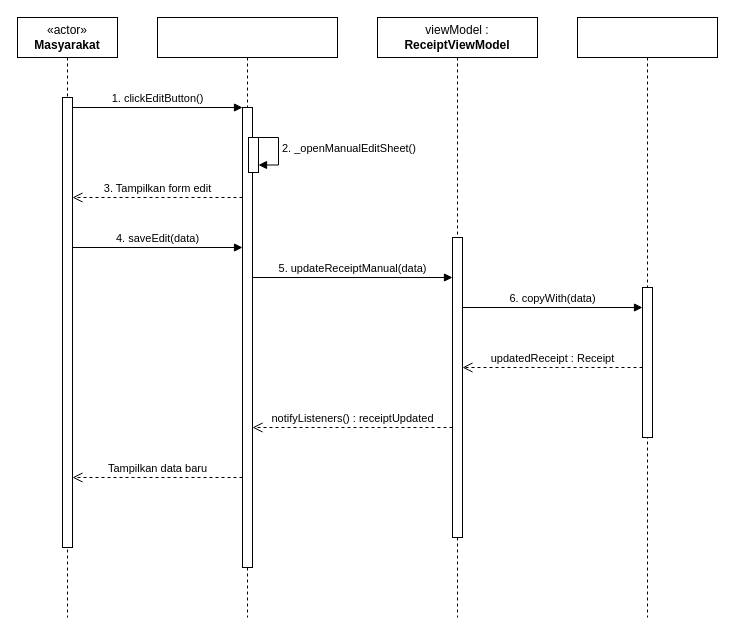
The diagram is 735 pixels wide and 635 high, and some of its shapes have lost their labels. Each missing label, with the box of its shape:
model : Receipt: (576, 16, 718, 618)
view : ReceiptParsedPage: (156, 16, 338, 618)
